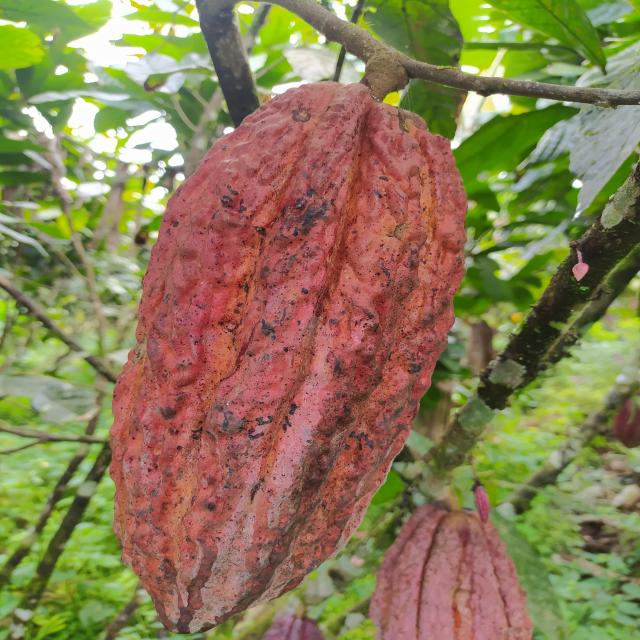Sana: (107, 81, 471, 633), (368, 507, 532, 640)
